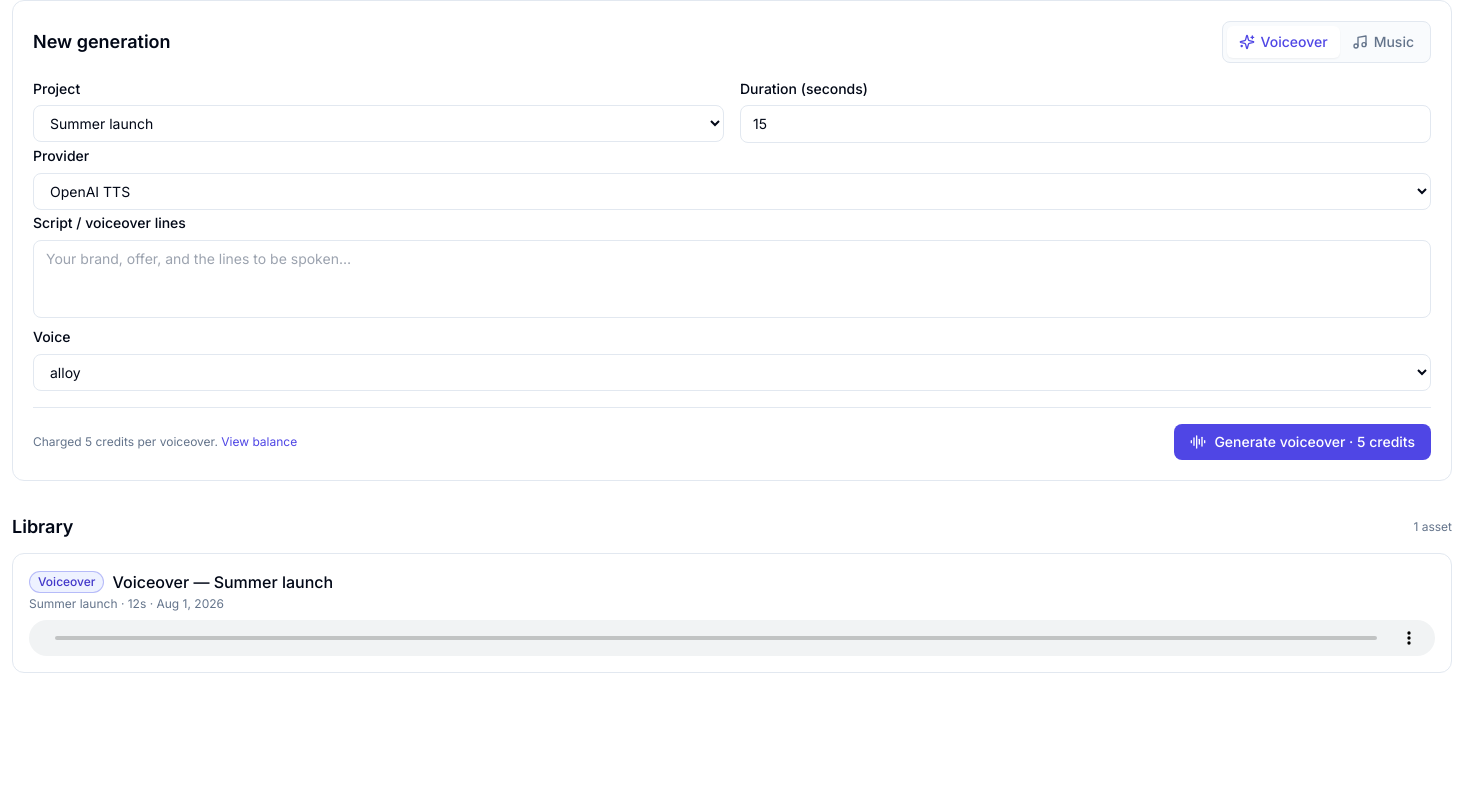
Scenario: AudioSuite › filters to music-capable providers and falls back after switching kind
The width and height of the screenshot is (1464, 810).
Click the button "Music": (1383, 42) left=1340, top=26, right=1426, bottom=58
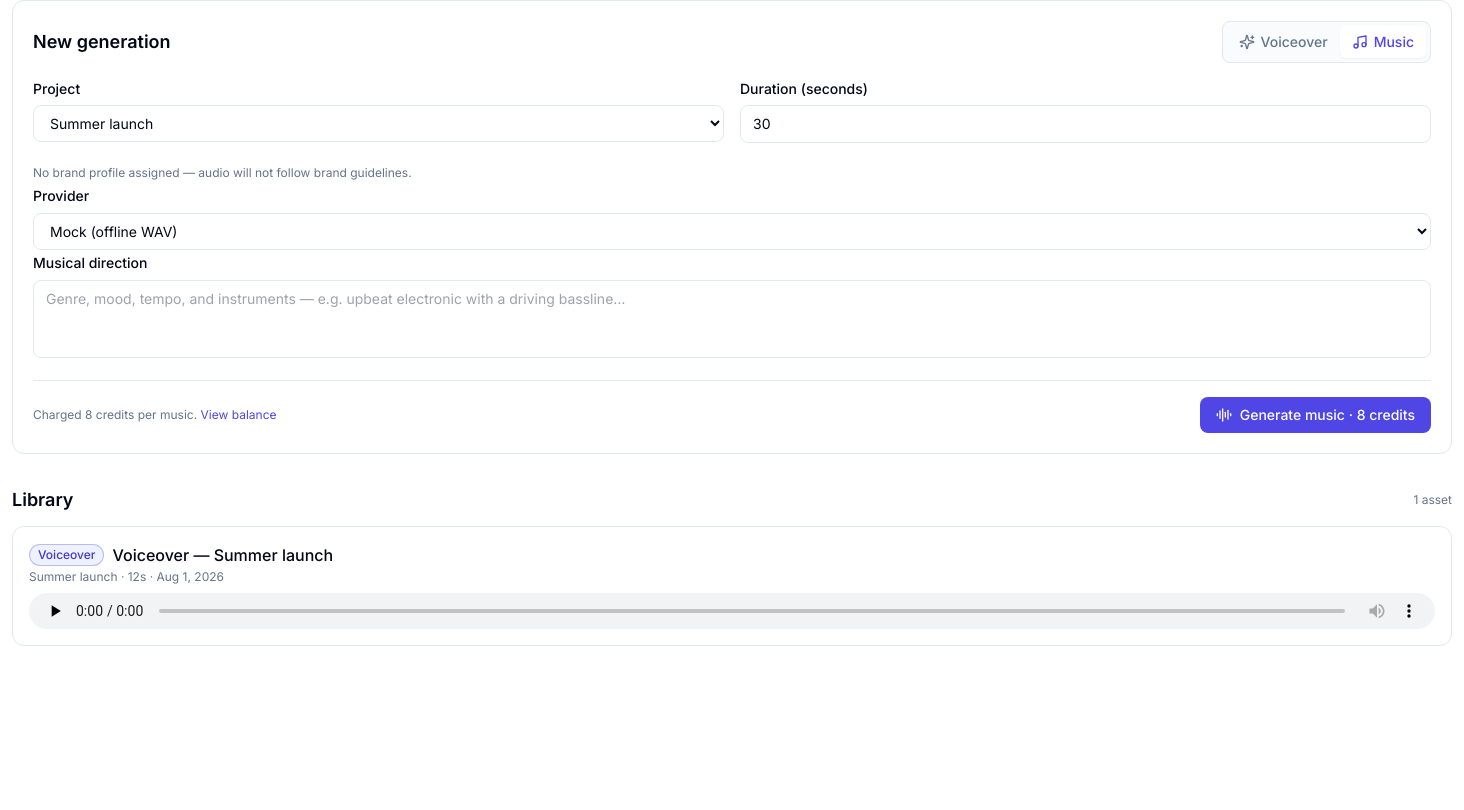
Now the dropdown labelled "Provider" shows "Mock (offline WAV)", box left=33, top=213, right=1431, bottom=250
